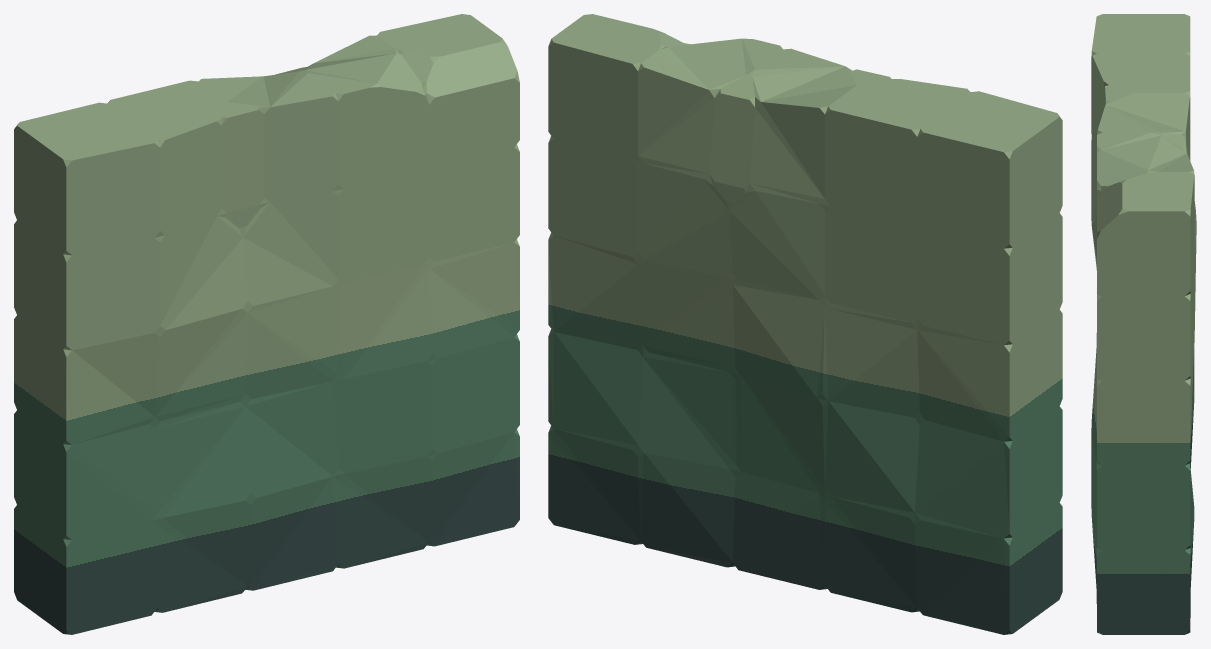
File: Wall 1.003.fbx
3 views of the same model, side by side, from view 1: azimuth 30°, elevation 25°; view 2: azimuth 150°, elevation 25°; view 3: azimuth 270°, elevation 25° (orthographic). The views are drawn at different scales.
Visible parts, largest first — view 1: Wall 1.003; view 2: Wall 1.003; view 3: Wall 1.003.
Boxes of the visible parts, x1,y1,x2,y2 form: Wall 1.003: (14,14,519,634); Wall 1.003: (548,14,1062,634); Wall 1.003: (1091,14,1196,634).
Bounding box in the file's own units: 500 × 500 × 113.
